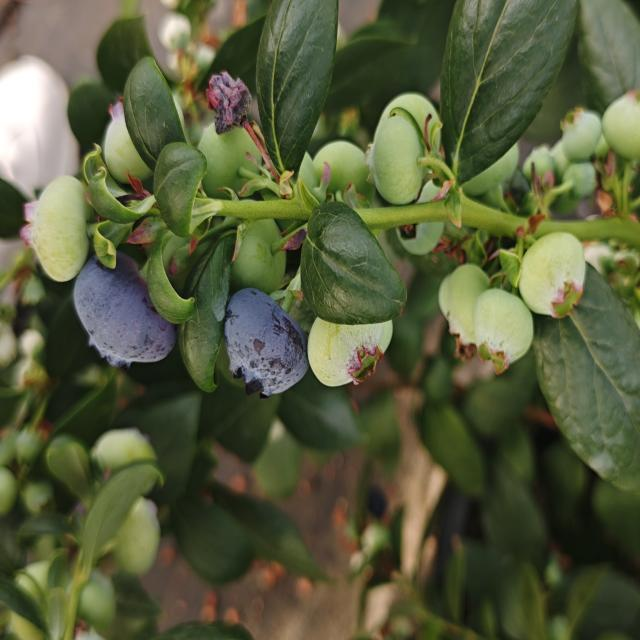ripe: (72, 246, 172, 382), (224, 269, 306, 401)
